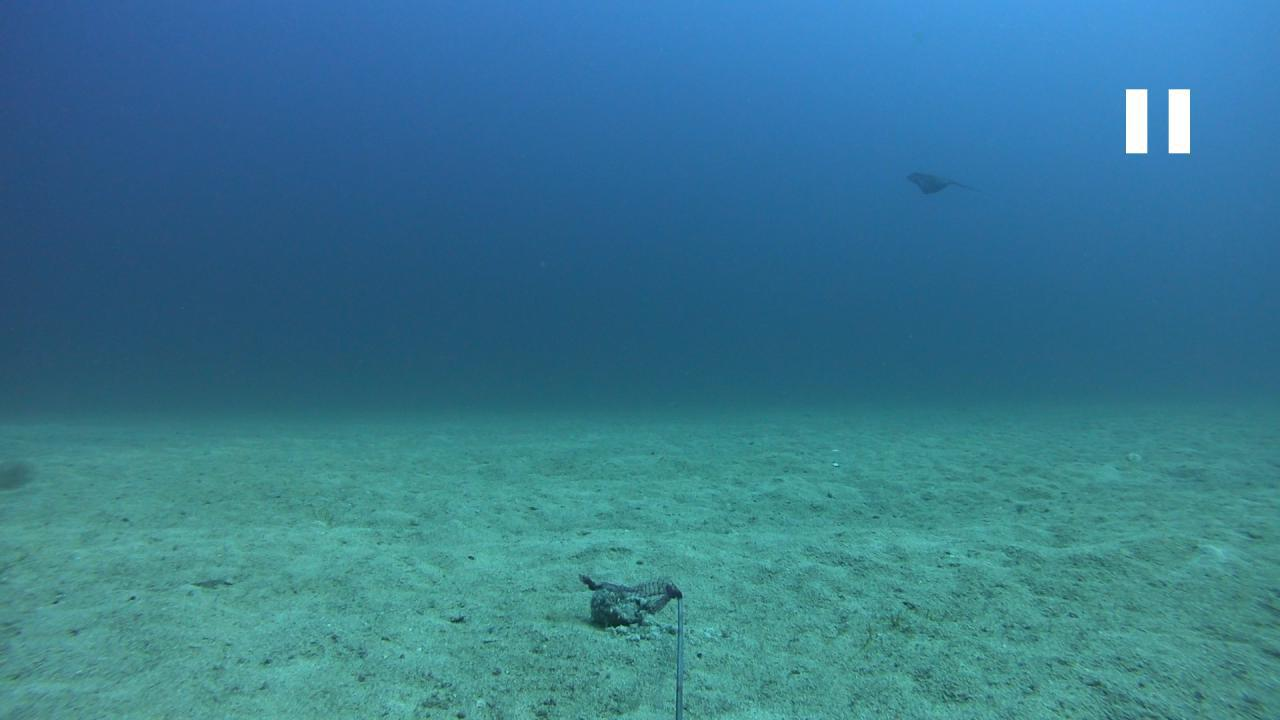dasyatis: (905, 170, 975, 195)
